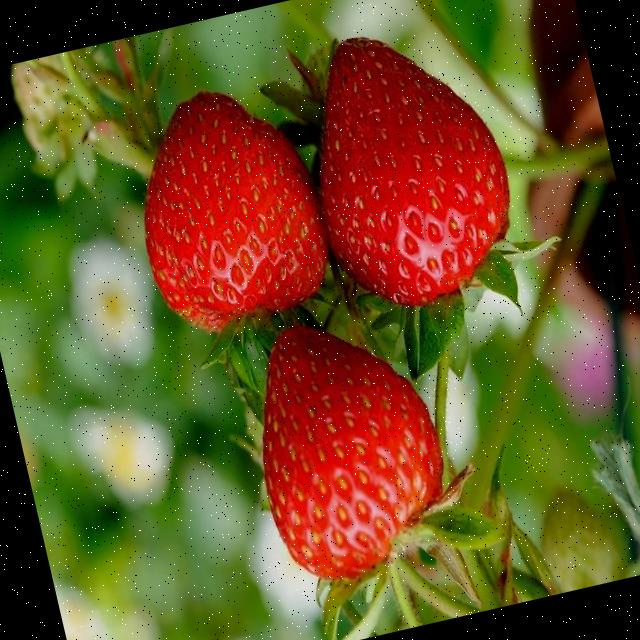strawberry: (319, 36, 508, 305), (262, 324, 442, 579), (143, 91, 326, 330)
